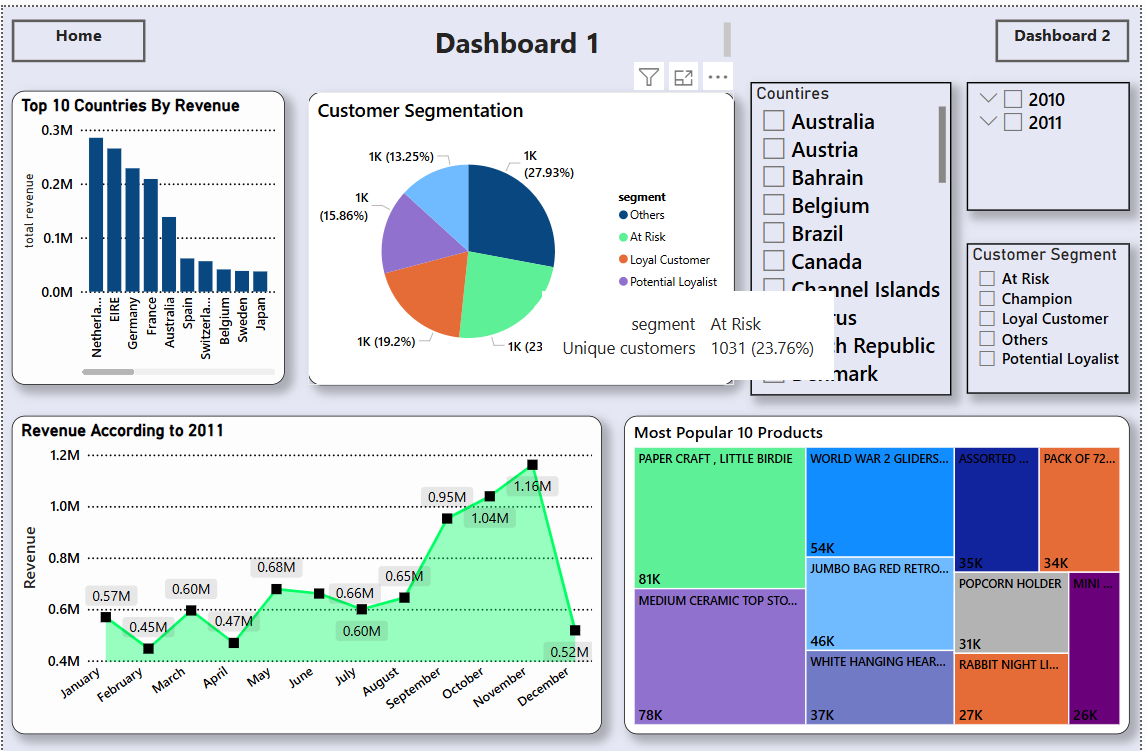

What the dashboard file says about the page in this screenshot:
{"tool":"powerbi","page":{"name":"Dashboard 1","canvas":[1300,850],"ordinal":1},"visuals":[{"type":"lineChart","title":"Revenue According to 2011","fields":{"Y":["cleaned_online_retail.total revenue"],"Category":["cleaned_online_retail.InvoiceDate.Variation.Date Hierarchy.Year","cleaned_online_retail.InvoiceDate.Variation.Date Hierarchy.Month"]},"box":[10.1,467.7,674.2,363.8],"z":0},{"type":"columnChart","title":"Top 10 Countries By Revenue","fields":{"Y":["cleaned_online_retail.total revenue"],"Category":["cleaned_online_retail.Country"]},"box":[10.1,95.3,311.8,336.4],"z":1000},{"type":"pieChart","title":"Customer Segmentation","fields":{"Category":["rfm_segments.segment"],"Y":["RFM.Unique customers"]},"box":[347.9,96.7,487.9,334.9],"z":2000},{"type":"treemap","title":"Most Popular 10 Products","fields":{"Group":["cleaned_online_retail.Description"],"Values":["RFM.total quantity"]},"box":[710.3,467.7,577.4,363.8],"z":3000},{"type":"slicer","fields":{"Values":["cleaned_online_retail.InvoiceDate.Variation.Date Hierarchy.Year","cleaned_online_retail.InvoiceDate.Variation.Date Hierarchy.Quarter","cleaned_online_retail.InvoiceDate.Variation.Date Hierarchy.Month","cleaned_online_retail.InvoiceDate.Variation.Date Hierarchy.Day"]},"box":[1101.5,85.2,186.2,147.2],"z":4000},{"type":"slicer","title":"Countires ","fields":{"Values":["cleaned_online_retail.Country"]},"box":[854.6,85.2,229.5,358],"z":5000},{"type":"slicer","title":"Customer Segment","fields":{"Values":["rfm_segments.segment"]},"box":[1101.5,270,186.2,171.8],"z":6000},{"type":"textbox","box":[1134.7,14.4,153,49.1],"z":6500},{"type":"actionButton","box":[1134.7,14.4,153,49.1],"z":7000},{"type":"textbox","box":[10.1,14.4,153,49.1],"z":7001},{"type":"actionButton","box":[10.1,14.4,153,49.1],"z":7002},{"type":"textbox","box":[347.9,13,487.9,50.5],"z":7003}]}

Visuals, with their boxes in screenshot pixels (x1, y1, x2, y2), scaled from the page's 1300x850 canvas onto the 1146x751 screenshot:
"Revenue According to 2011" lineChart: bbox=(9, 413, 603, 735)
"Top 10 Countries By Revenue" columnChart: bbox=(9, 84, 284, 381)
"Customer Segmentation" pieChart: bbox=(307, 85, 737, 381)
"Most Popular 10 Products" treemap: bbox=(626, 413, 1135, 735)
slicer - cleaned_online_retail.InvoiceDate.Variation.Date Hierarchy.Year x cleaned_online_retail.InvoiceDate.Variation.Date Hierarchy.Quarter: bbox=(971, 75, 1135, 205)
"Countires " slicer: bbox=(753, 75, 956, 392)
"Customer Segment" slicer: bbox=(971, 239, 1135, 390)
textbox: bbox=(1000, 13, 1135, 56)
actionButton: bbox=(1000, 13, 1135, 56)
textbox: bbox=(9, 13, 144, 56)
actionButton: bbox=(9, 13, 144, 56)
textbox: bbox=(307, 11, 737, 56)
